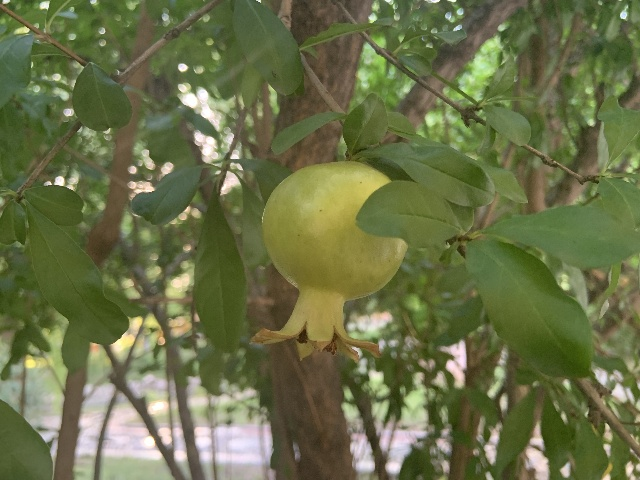mid-growth: (249, 161, 407, 363)
